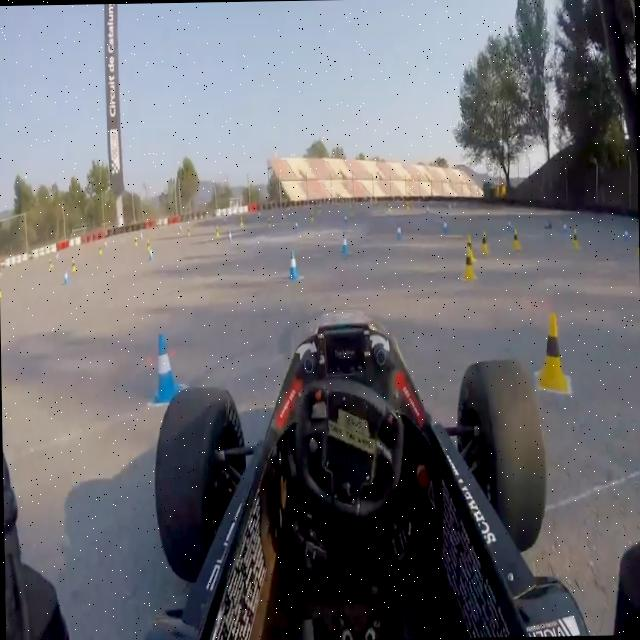blue_cone: (144, 334, 183, 406), (284, 247, 300, 282), (340, 230, 350, 258), (61, 267, 70, 286), (394, 225, 402, 244), (442, 218, 448, 236), (561, 222, 567, 240), (148, 246, 154, 262), (622, 230, 628, 245), (228, 229, 232, 243)
yellow_cone: (536, 310, 568, 395), (462, 246, 477, 282), (464, 232, 476, 264), (511, 226, 522, 254), (479, 230, 489, 256), (570, 226, 580, 251), (70, 258, 78, 272), (635, 233, 639, 259), (215, 224, 220, 238), (98, 246, 104, 256), (146, 239, 150, 252), (134, 235, 138, 247)
